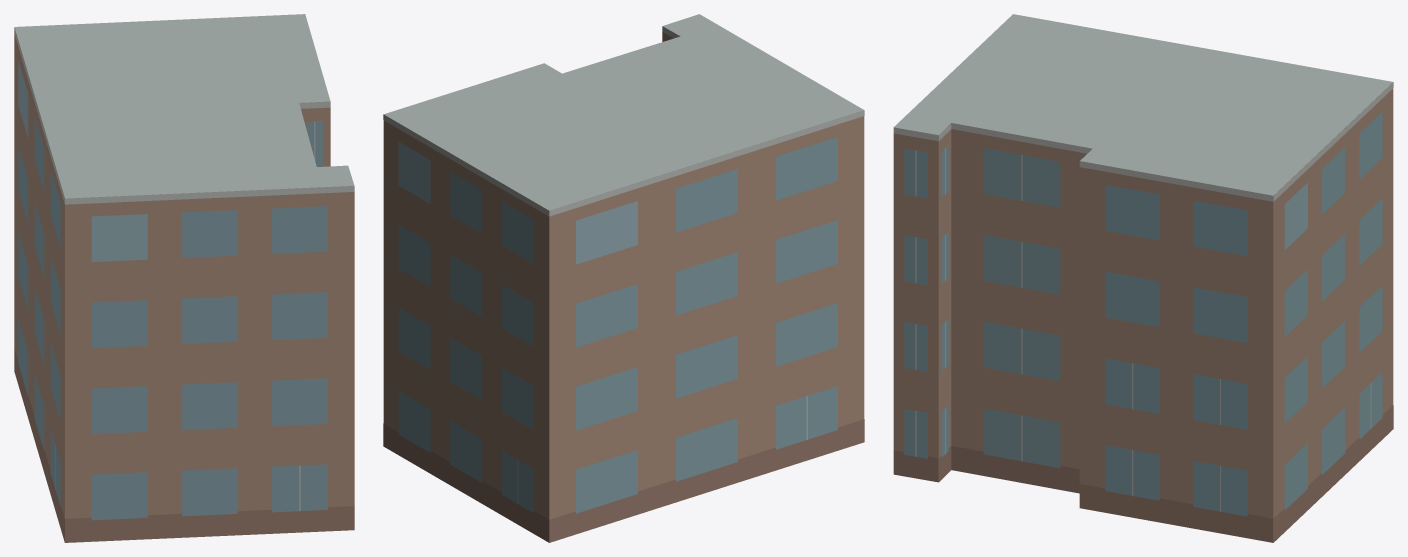
File: survey-upis-33044998.glb
3 views of the same model, side by side, from view 1: azimuth 30°, elevation 25°; view 2: azimuth 150°, elevation 25°; view 3: azimuth 270°, elevation 25° (orthographic). The views are drawn at different scales.
Visible parts, largest first — view 1: survey-upis-33044998.tmp; view 2: survey-upis-33044998.tmp; view 3: survey-upis-33044998.tmp.
Part boxes in pixels (bbox=[...]): survey-upis-33044998.tmp: bbox=[14, 14, 354, 542]; survey-upis-33044998.tmp: bbox=[383, 14, 864, 542]; survey-upis-33044998.tmp: bbox=[893, 14, 1393, 542].
Bounding box in the file's own units: 15.62 × 13.9 × 18.15.
